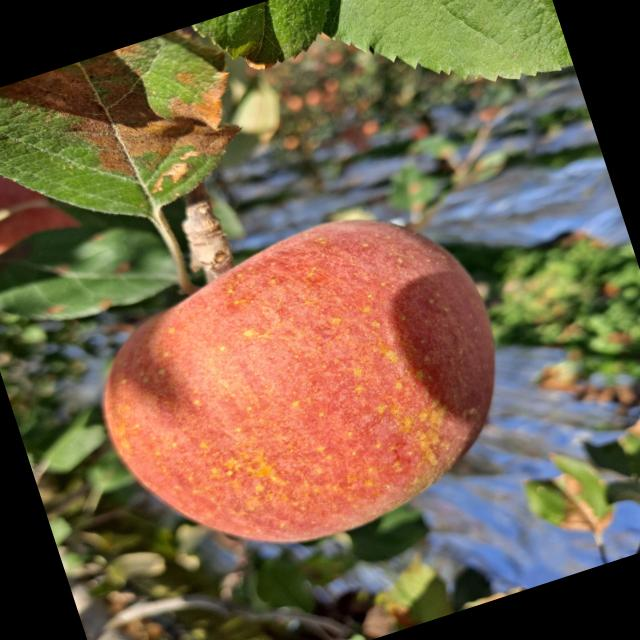fresh: (57, 176, 555, 603)
